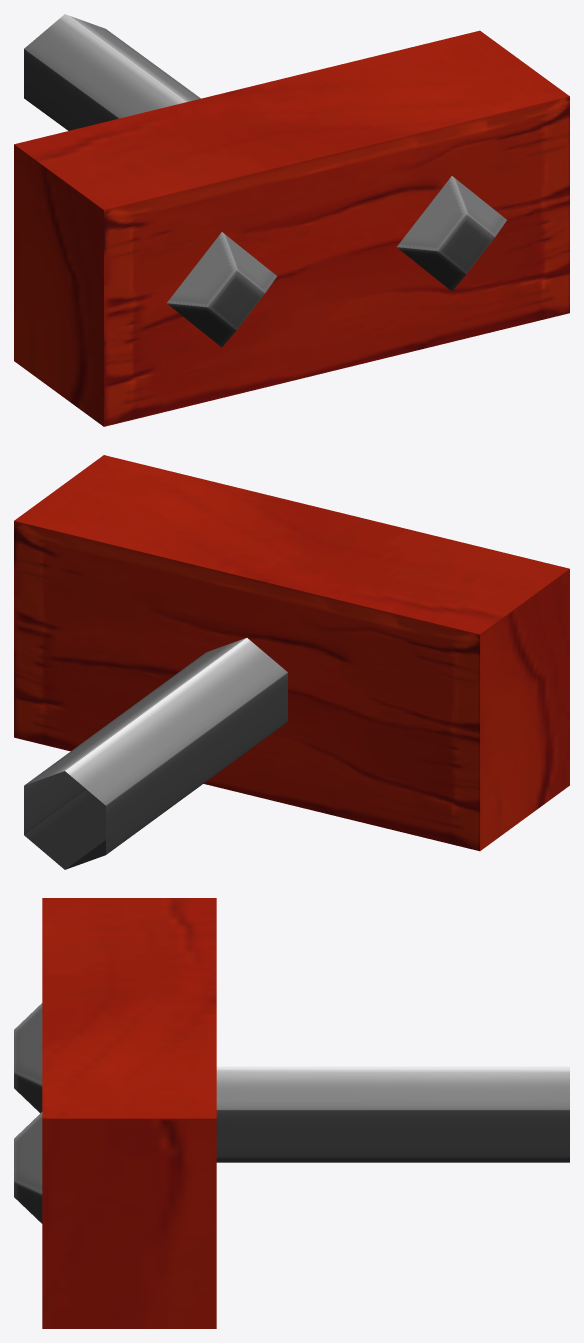
The model's file is wall_red_01.fbx.
3 renders of one model, top to bottom at view 1: azimuth 30°, elevation 25°; view 2: azimuth 150°, elevation 25°; view 3: azimuth 270°, elevation 25°, orthographic. The views are drawn at different scales.
Parts seen in each view (by area): view 1: wall_5, spring_2; view 2: wall_5, spring_2; view 3: wall_5, spring_2.
Part boxes in pixels (x1,y1,x2,y2): wall_5: (14, 30, 569, 426); spring_2: (24, 14, 200, 130); wall_5: (14, 455, 569, 851); spring_2: (24, 638, 287, 869); wall_5: (14, 898, 216, 1328); spring_2: (216, 1066, 569, 1162).
Bounding box in the file's own units: 90 × 40 × 95.87.
